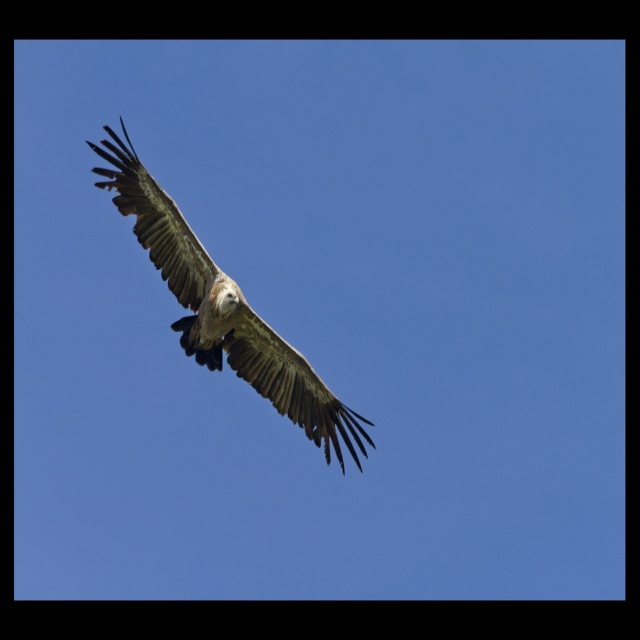Eagle: (83, 115, 377, 477)
